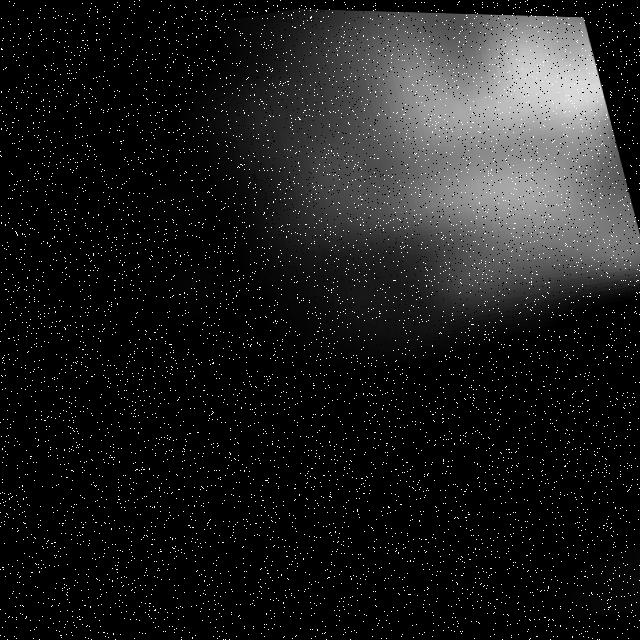person: (252, 111, 640, 377), (281, 8, 620, 204)
